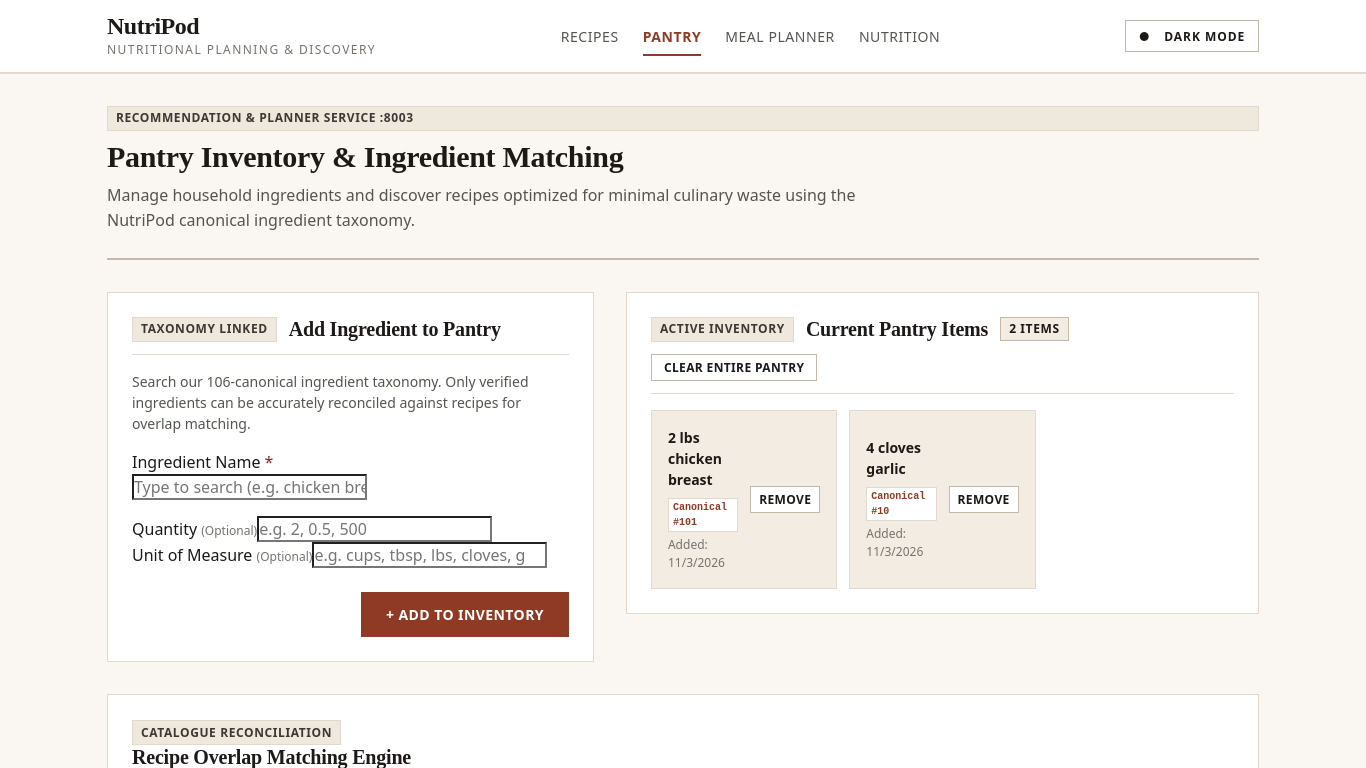
Test: Guest Pantry Management & Recipe Ingredient Matching (Step 05.5) › 12. displays empty suggestions state when ingredient is not in canonical taxonomy
Type "nonexistentfood" into the field with test id "ingredient-search-input" at point(250, 487), box top-left (132, 474), bottom-right (367, 500)
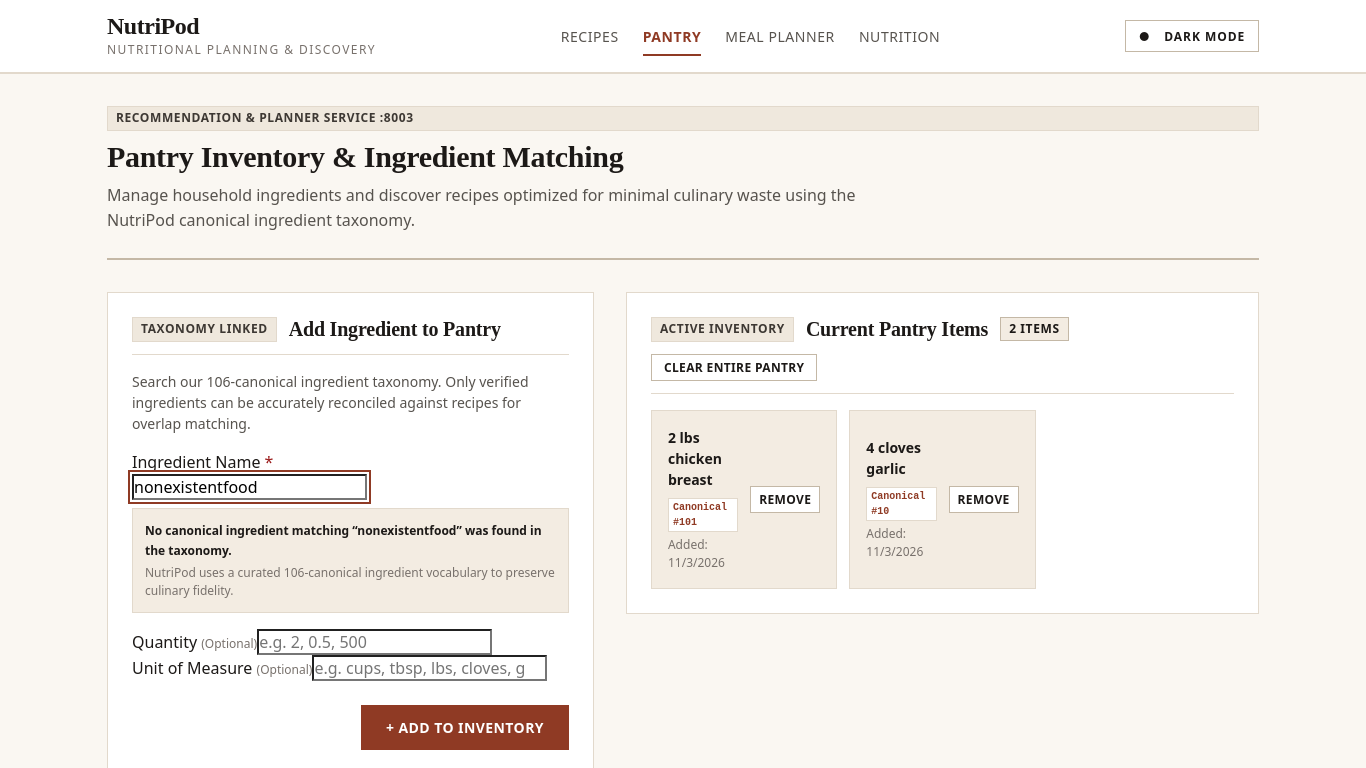
Expected: the element with test id "suggestions-empty" shows "No canonical ingredient matching “nonexistentfood” was found in the taxonomy", top-left (132, 508), bottom-right (569, 613)
